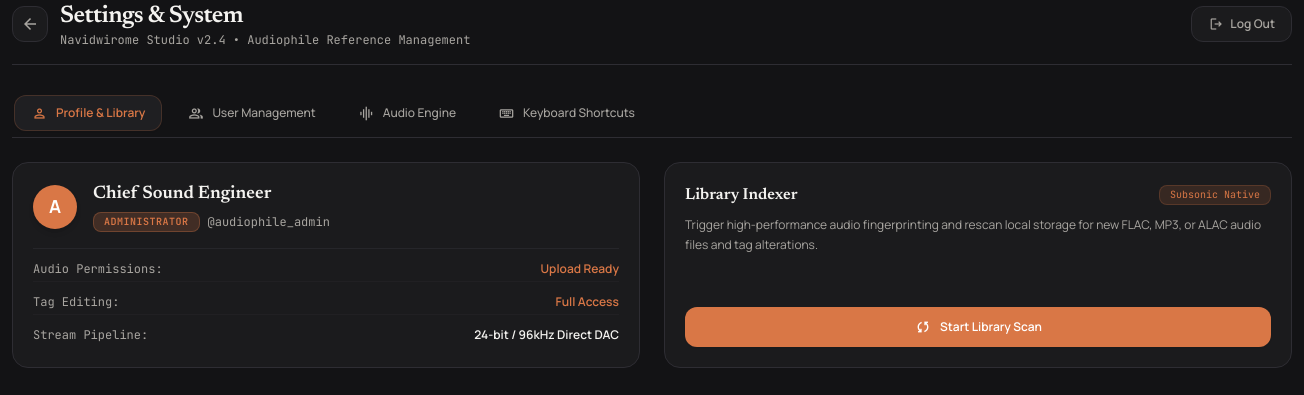
Scenario: SettingsView › switches to user management tab and renders users table
Step 1. Click the button "User Management" → click(252, 113), box [170,95,333,131]
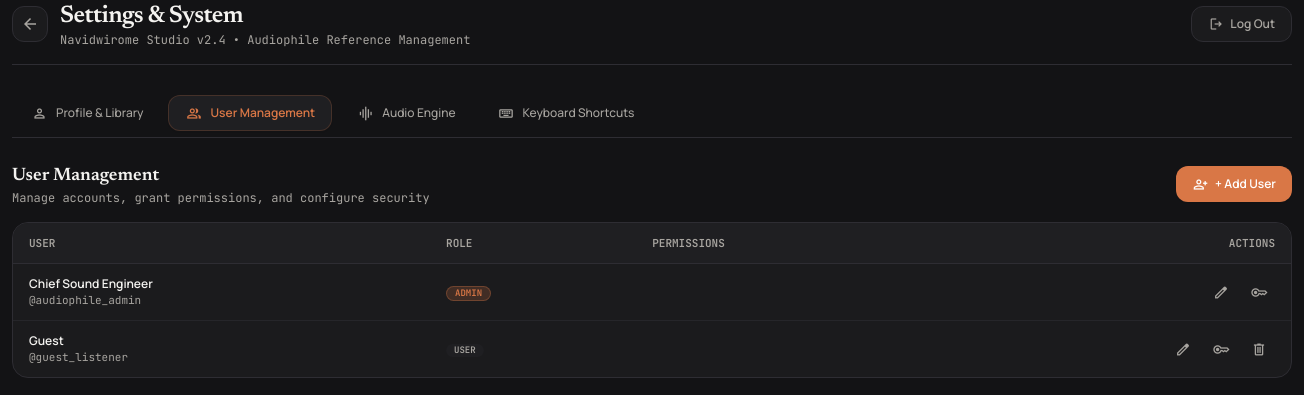
Result: the text "@guest_listener" is shown at [29,350,128,364]
Result: the button "+ Add User" is shown at [1176,166,1292,202]
